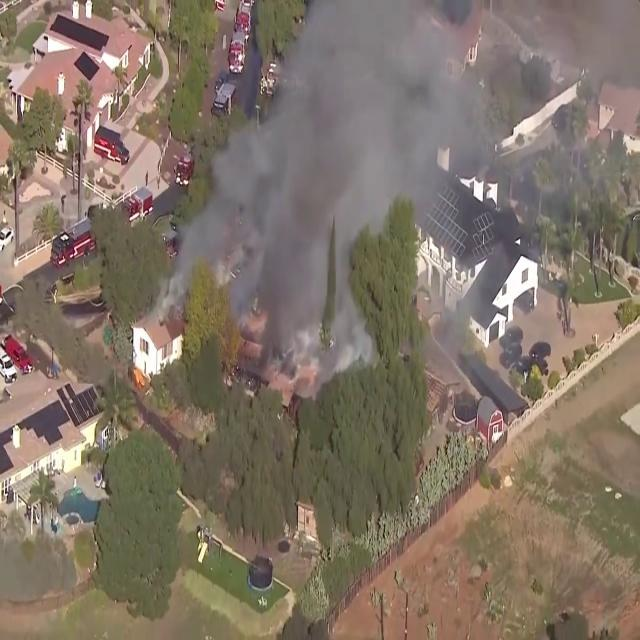Smoke: (158, 2, 404, 346)
